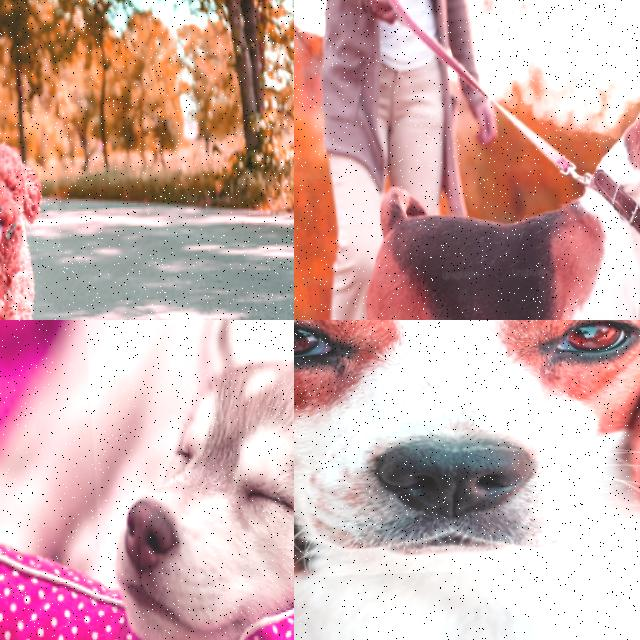beagle: (294, 320, 640, 583), (592, 72, 640, 279)
husky: (79, 320, 294, 640)
poodle: (0, 109, 56, 256)
